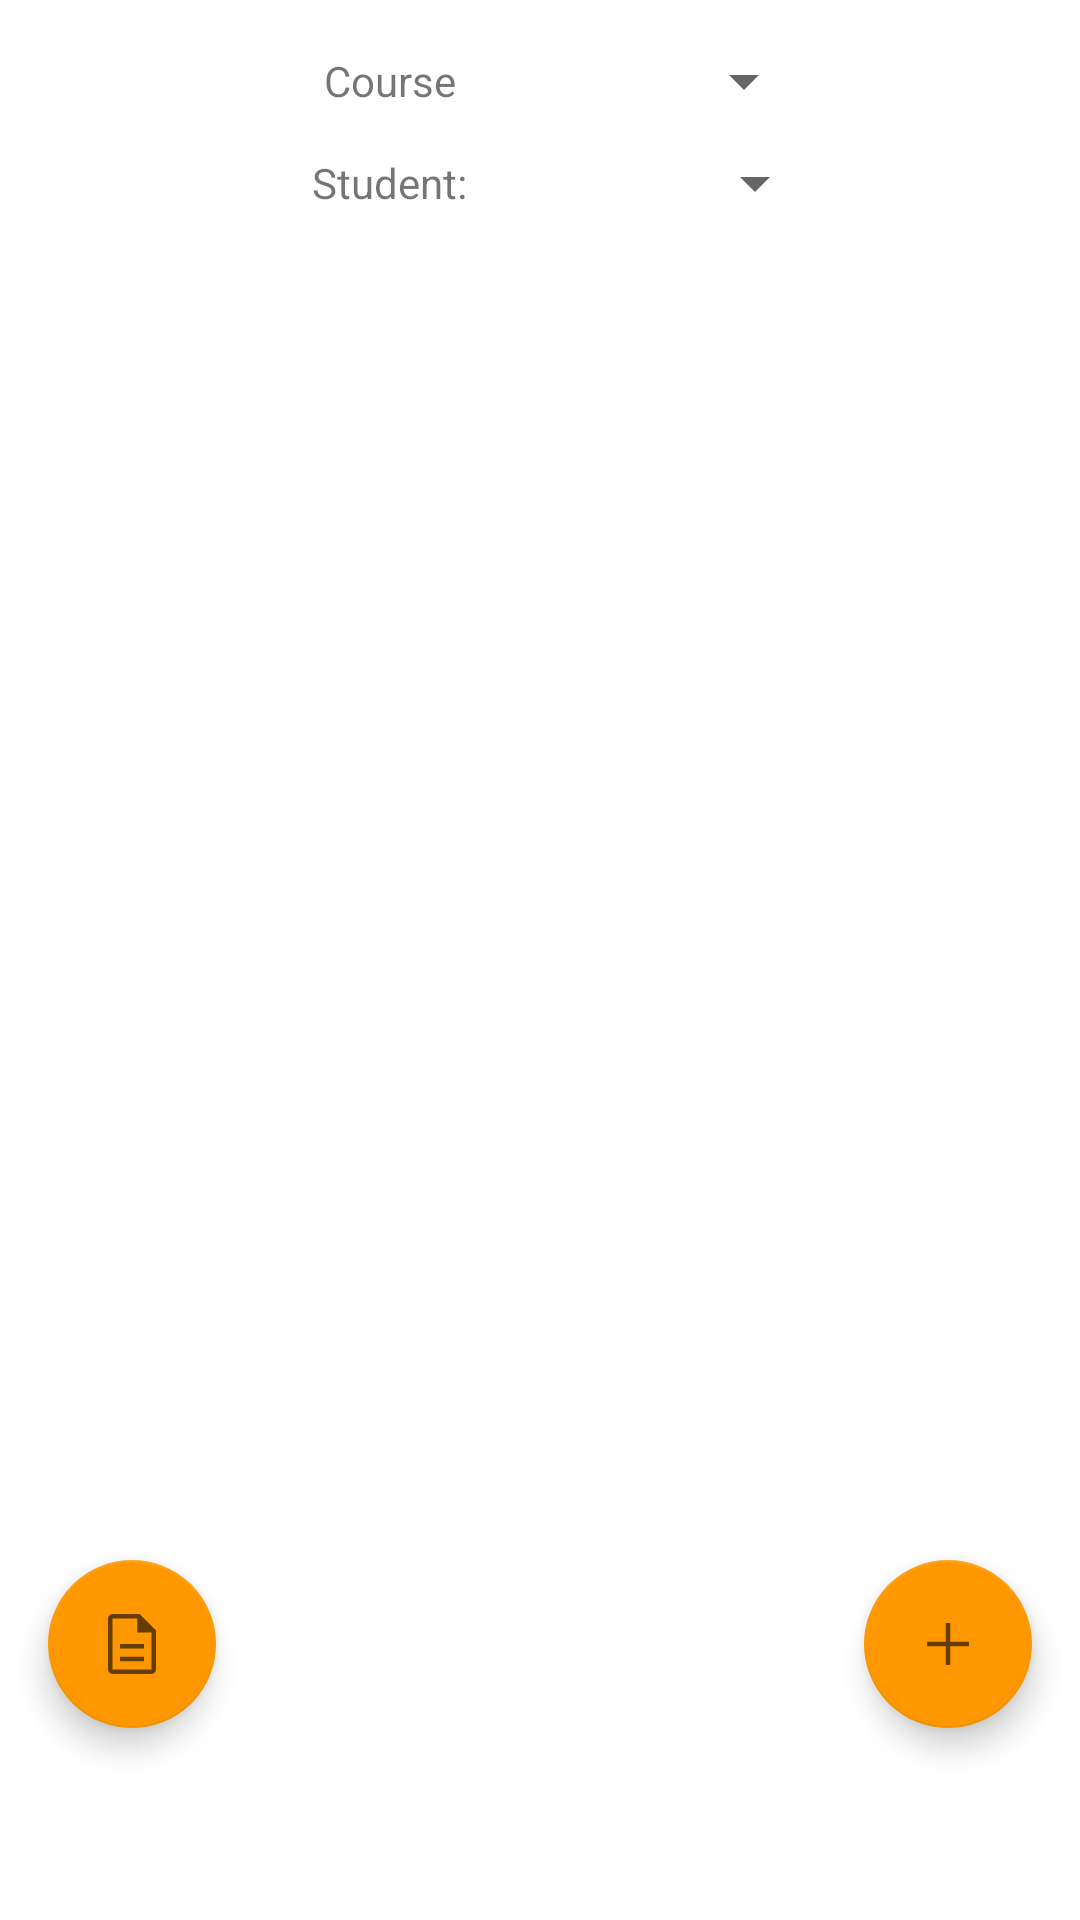

Named icons in this screenshot (1080×1920) and their bounding boxes, [x1,y1,x2,y2]:
add: [864,1560,1032,1728]
file: [48,1560,216,1728]
